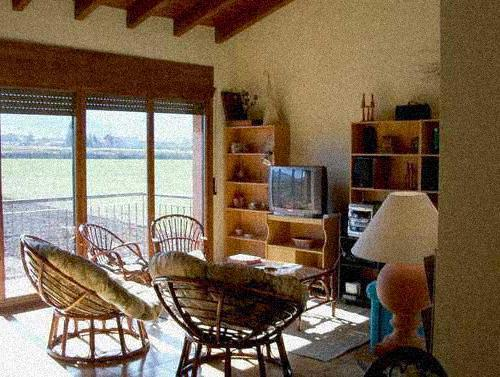Otro Obstaculo: (355, 188, 437, 358)
Puerta: (149, 98, 200, 264)
